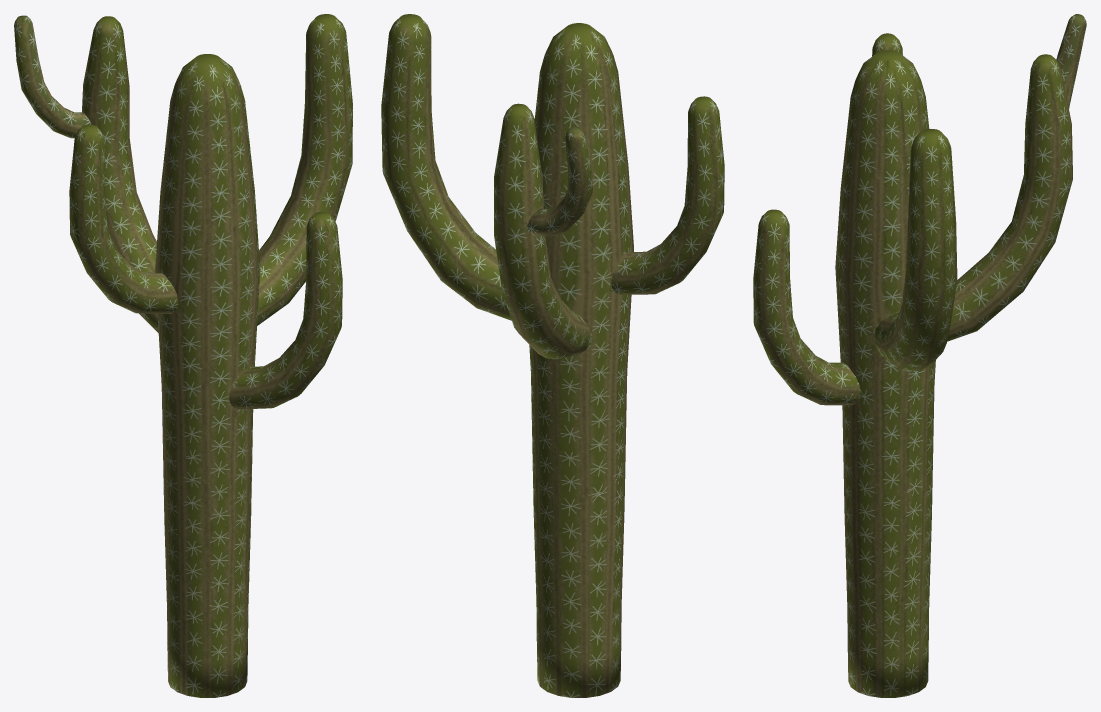
Rendered from cactus_verde.glb.
3 views of the same model, side by side, from view 1: azimuth 30°, elevation 25°; view 2: azimuth 150°, elevation 25°; view 3: azimuth 270°, elevation 25° (orthographic). The views are drawn at different scales.
Parts seen in each view (by area): view 1: Cilindro; view 2: Cilindro; view 3: Cilindro.
Part boxes in pixels (bbox=[...]): Cilindro: bbox=[14, 14, 352, 697]; Cilindro: bbox=[381, 14, 724, 697]; Cilindro: bbox=[753, 14, 1086, 697].
Bounding box in the file's own units: 1.01 × 2 × 0.966.
Materials: 1 (1 with a texture image).
